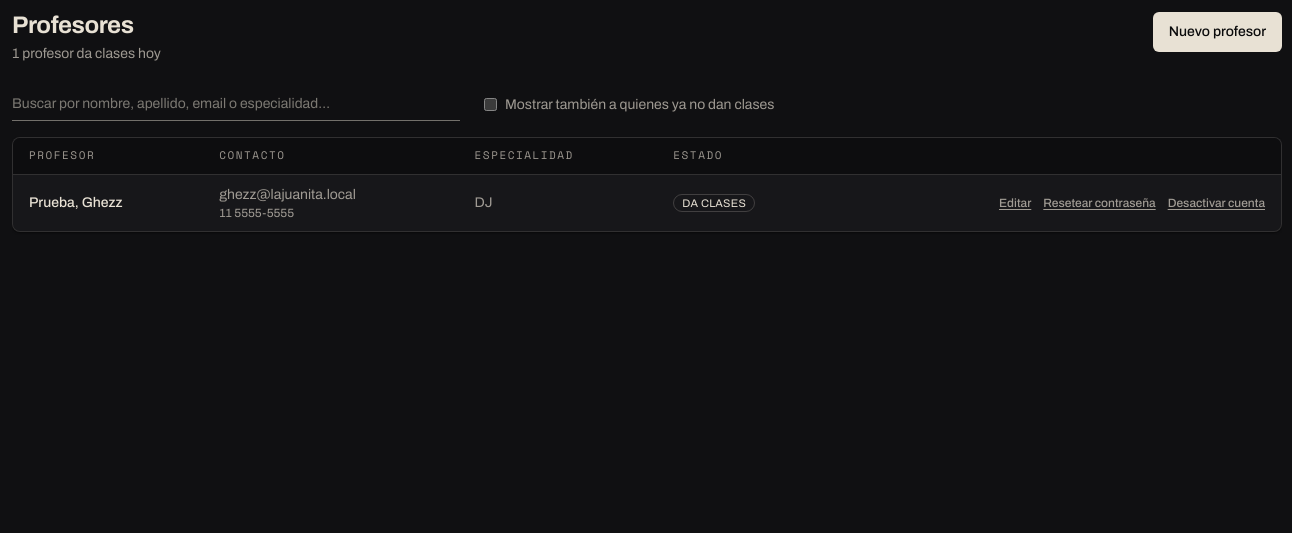
Test case: las acciones sobre la cuenta, iguales a las de Equipo › sin teléfono legible no ofrece el link y lo dice
expect the text "Prueba, Ghezz" is shown: met, box [29, 195, 123, 210]
Click the button "Resetear contraseña" at point(1100, 203), box [1043, 195, 1156, 211]
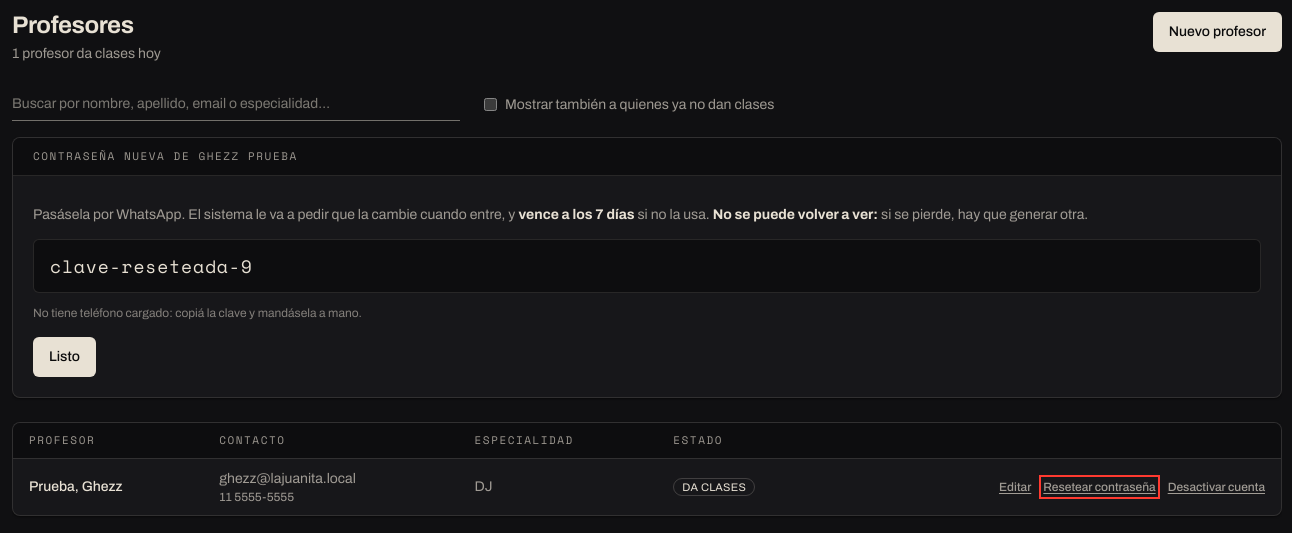
expect the text "clave-reseteada-9" is shown: met, box [33, 239, 1261, 293]
expect the text "No tiene teléfono cargado" is shown: met, box [33, 306, 362, 320]
